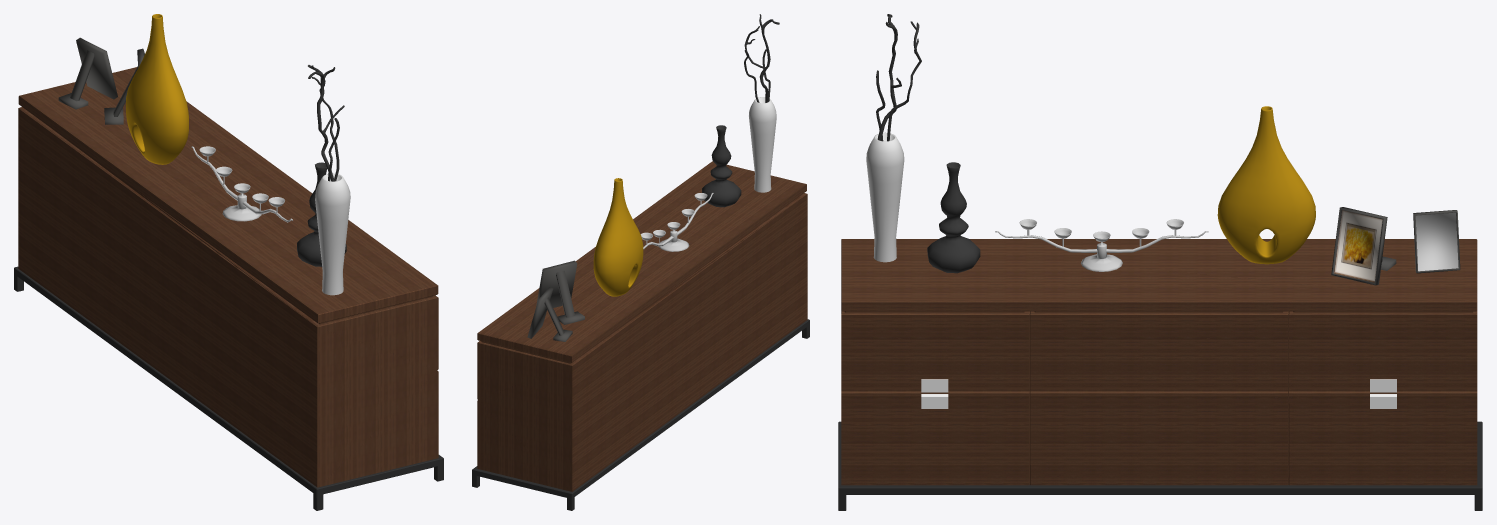
Rendered from zhuozi.FBX.
The picture shows the model from 3 angles, left to right: view 1: azimuth 30°, elevation 25°; view 2: azimuth 150°, elevation 25°; view 3: azimuth 270°, elevation 25°; orthographic projection. The views are drawn at different scales.
Parts seen in each view (by area): view 1: 对象001; view 2: 对象001; view 3: 对象001.
Part boxes in pixels (<box>): 对象001: <box>14,14,443,510</box>; 对象001: <box>472,14,809,510</box>; 对象001: <box>838,14,1482,510</box>.
Size of the model in its own units: 0.4096 by 1.28 by 1.69.
